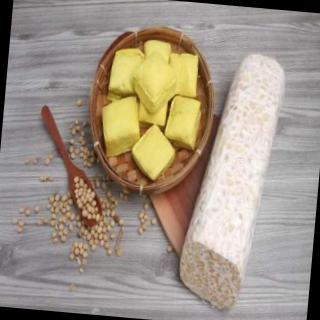Tempe: (176, 49, 291, 315)
